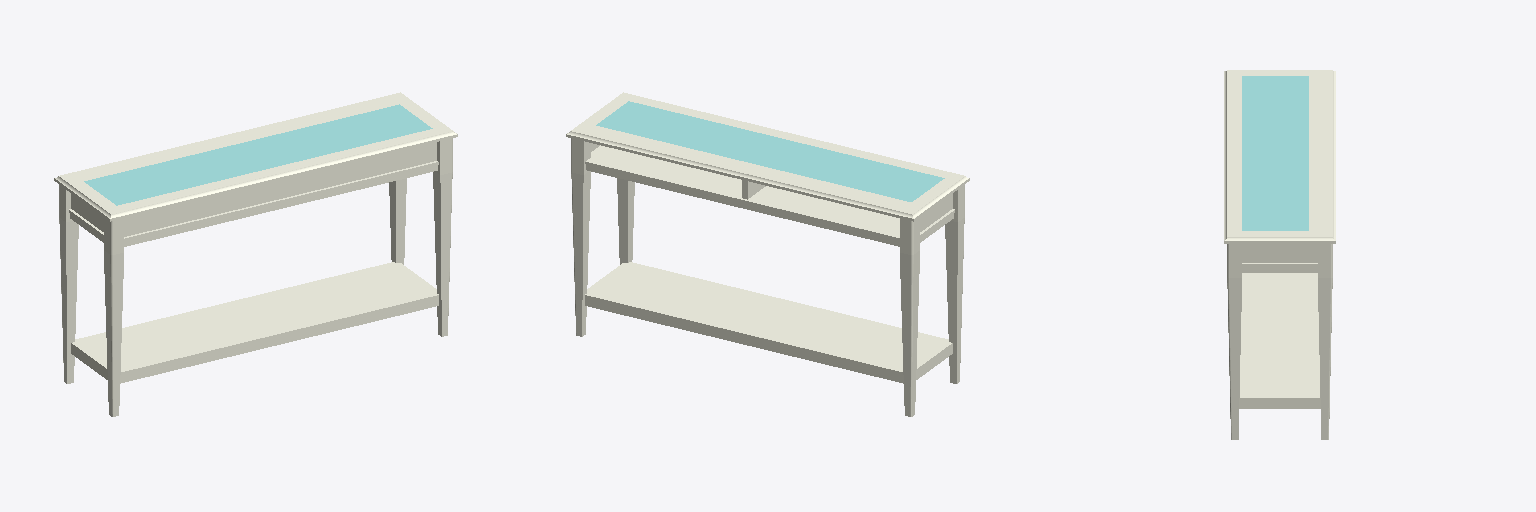
3 views of the same model, side by side, from view 1: azimuth 30°, elevation 25°; view 2: azimuth 150°, elevation 25°; view 3: azimuth 270°, elevation 25° (orthographic).
Visible parts, largest first — view 1: Mesh6 Bottom_plate1 Model, Mesh7 GLASS1 Model, Mesh1 Upper_Plae1 Model, Mesh8 Model, Mesh5 foot4 Model, Mesh2 foot1 Model, Mesh4 foot3 Model, Mesh3 foot2 Model; view 2: Mesh6 Bottom_plate1 Model, Mesh7 GLASS1 Model, Mesh1 Upper_Plae1 Model, Mesh8 Model, Mesh4 foot3 Model, Mesh3 foot2 Model, Mesh5 foot4 Model, Mesh2 foot1 Model; view 3: Mesh6 Bottom_plate1 Model, Mesh7 GLASS1 Model, Mesh1 Upper_Plae1 Model, Mesh2 foot1 Model, Mesh3 foot2 Model, Mesh8 Model.
Part boxes in pixels (x1,y1,x2,y2): Mesh6 Bottom_plate1 Model: (71,262,438,383); Mesh7 GLASS1 Model: (84,104,432,205); Mesh1 Upper_Plae1 Model: (54,92,457,221); Mesh8 Model: (69,142,438,246); Mesh5 foot4 Model: (104,218,123,416); Mesh2 foot1 Model: (433,138,452,336); Mesh4 foot3 Model: (59,185,78,383); Mesh3 foot2 Model: (389,178,406,264); Mesh6 Bottom_plate1 Model: (585,262,952,383); Mesh7 GLASS1 Model: (596,101,944,201); Mesh1 Upper_Plae1 Model: (566,92,969,221); Mesh8 Model: (585,143,954,246); Mesh4 foot3 Model: (900,218,919,416); Mesh3 foot2 Model: (571,138,590,336); Mesh5 foot4 Model: (945,185,964,383); Mesh2 foot1 Model: (617,178,634,264); Mesh6 Bottom_plate1 Model: (1239,273,1320,408); Mesh7 GLASS1 Model: (1242,76,1308,230); Mesh1 Upper_Plae1 Model: (1224,70,1335,243); Mesh2 foot1 Model: (1227,244,1241,439); Mesh3 foot2 Model: (1318,244,1332,439); Mesh8 Model: (1242,244,1317,272).
Size of the model in its own units: 133 by 75 by 37.